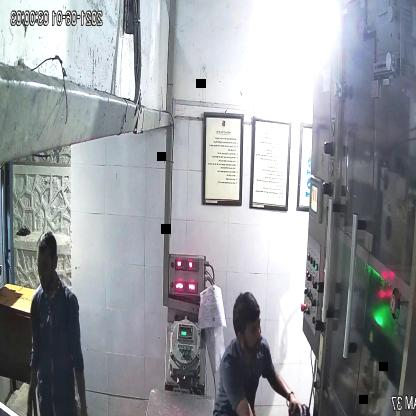no_goggles: (237, 316, 264, 341)
